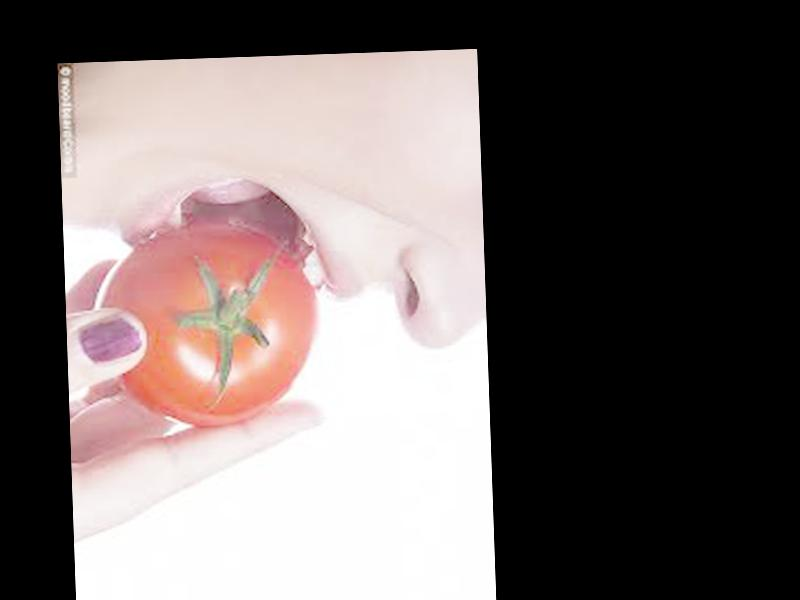Tomato: (92, 221, 321, 431)
